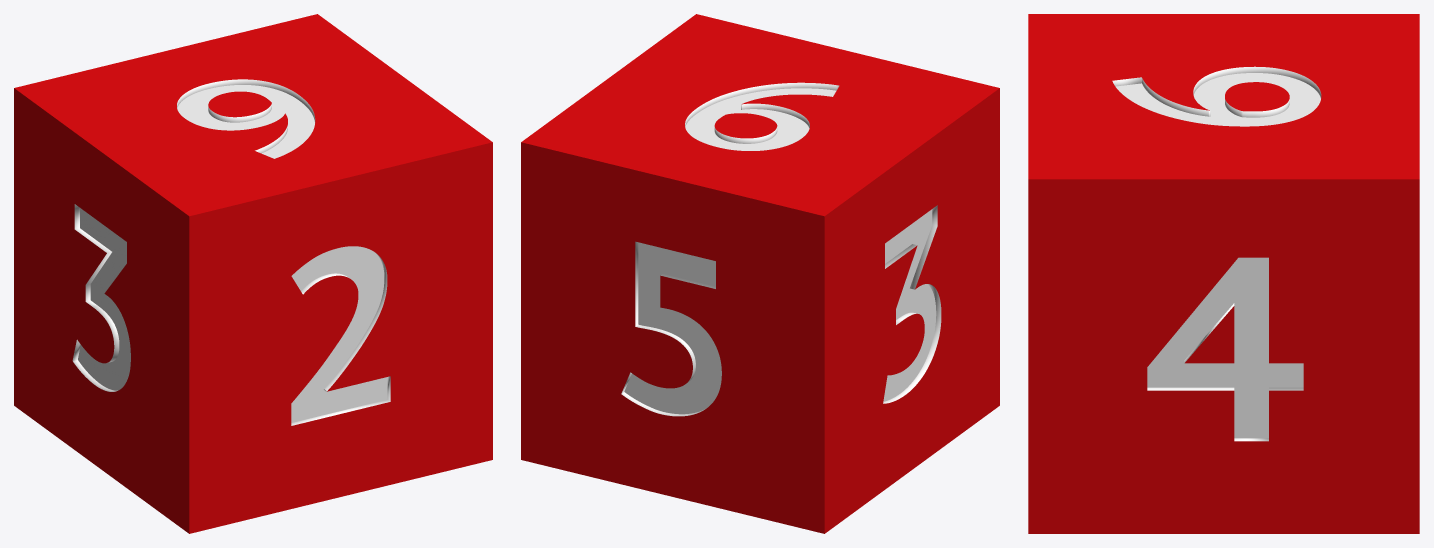
The picture shows the model from 3 angles, left to right: view 1: azimuth 30°, elevation 25°; view 2: azimuth 150°, elevation 25°; view 3: azimuth 270°, elevation 25°; orthographic projection. The views are drawn at different scales.
Parts seen in each view (by area): view 1: d6.001; view 2: d6.001; view 3: d6.001.
Part boxes in pixels (<box>): d6.001: <box>14,14,492,533</box>; d6.001: <box>521,14,999,533</box>; d6.001: <box>1028,14,1419,533</box>.
Size of the model in its own units: 1.15 by 1.15 by 1.15.
